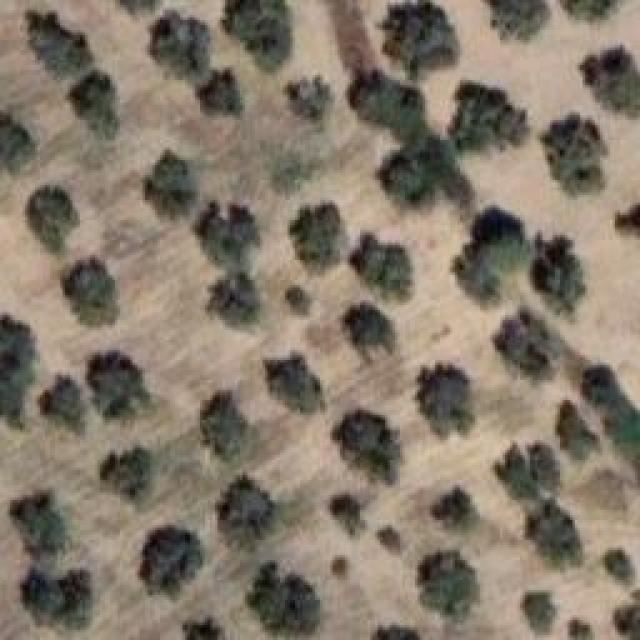Tree: (377, 135, 475, 208), (382, 0, 460, 77), (348, 70, 429, 142), (450, 82, 528, 152), (333, 410, 404, 485), (543, 113, 608, 194), (248, 563, 321, 634), (493, 308, 563, 380), (225, 0, 293, 72), (195, 203, 261, 272), (20, 568, 93, 630), (415, 364, 474, 438), (140, 525, 204, 593), (218, 475, 278, 547), (88, 350, 151, 418), (533, 235, 587, 313), (418, 550, 478, 620), (150, 10, 210, 80), (28, 13, 94, 76), (580, 47, 640, 115), (350, 233, 411, 299), (0, 315, 35, 430), (10, 493, 69, 560), (290, 203, 348, 270), (63, 258, 119, 326), (525, 500, 581, 568), (145, 150, 199, 218), (28, 185, 81, 253), (265, 355, 325, 413), (202, 273, 268, 325), (200, 390, 248, 461), (70, 70, 116, 138), (343, 303, 396, 361), (453, 240, 502, 302), (555, 400, 599, 460), (488, 0, 551, 41), (40, 375, 84, 433), (100, 448, 150, 498), (495, 444, 539, 498), (0, 113, 35, 173), (432, 488, 480, 530), (198, 70, 241, 116), (290, 75, 332, 121), (478, 208, 524, 246), (333, 493, 366, 536), (612, 590, 640, 640), (523, 593, 557, 634), (375, 523, 409, 559), (530, 445, 556, 492), (562, 0, 620, 21), (283, 283, 314, 313), (612, 203, 640, 236), (182, 617, 218, 640), (608, 550, 632, 583), (372, 625, 420, 640), (328, 553, 351, 582), (570, 622, 595, 640)
